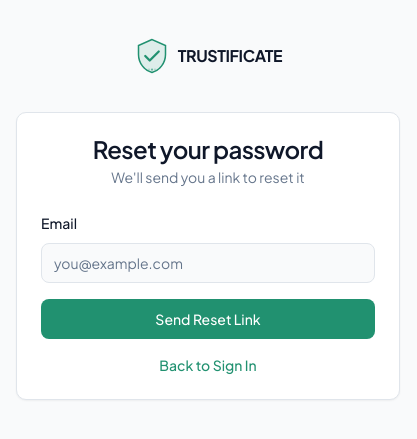
Test: ForgotPasswordPage › shows success state after sending reset email
Type "t@t.com" into the field labelled "Email". click: (208, 263)
box: [41,243,375,283]
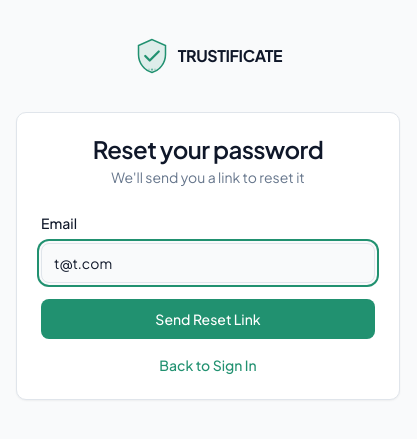
Click the button "Send Reset Link". click: (208, 319)
box: [41,299,375,339]
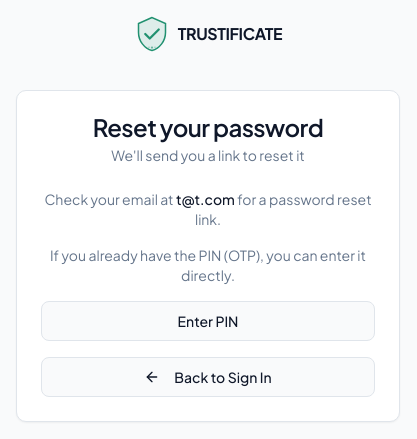
Result: the text "Check your email at t@t.com for a password reset link." is shown at [41,189,375,229]
